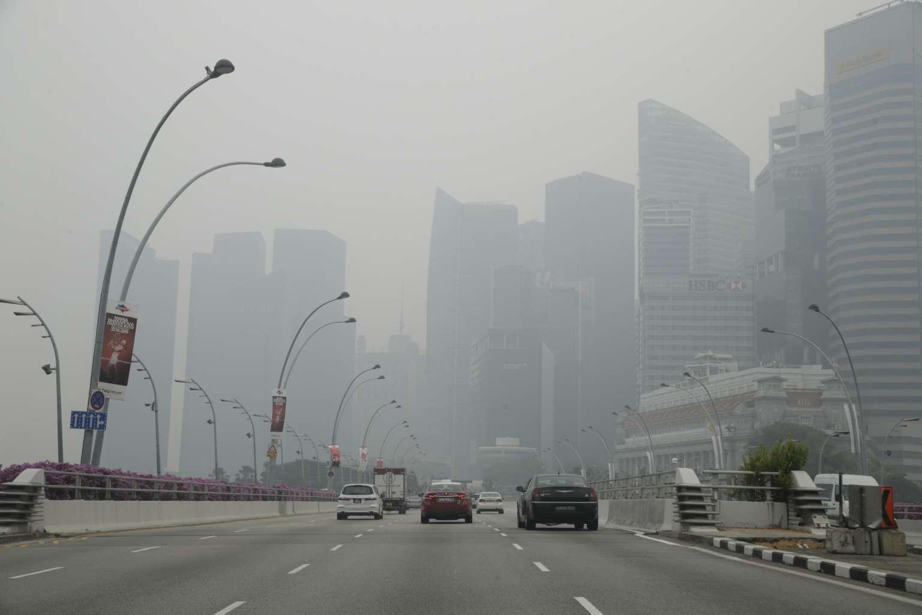bus: (811, 473, 886, 530), (371, 466, 412, 516)
car: (516, 471, 600, 531), (417, 479, 475, 525), (335, 483, 386, 521), (475, 491, 506, 514), (466, 492, 484, 510), (405, 494, 424, 510)
